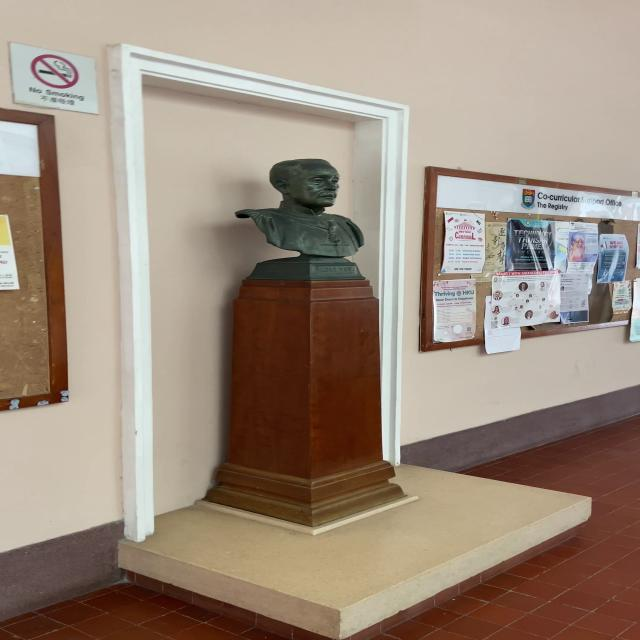statues: (230, 152, 376, 287)
